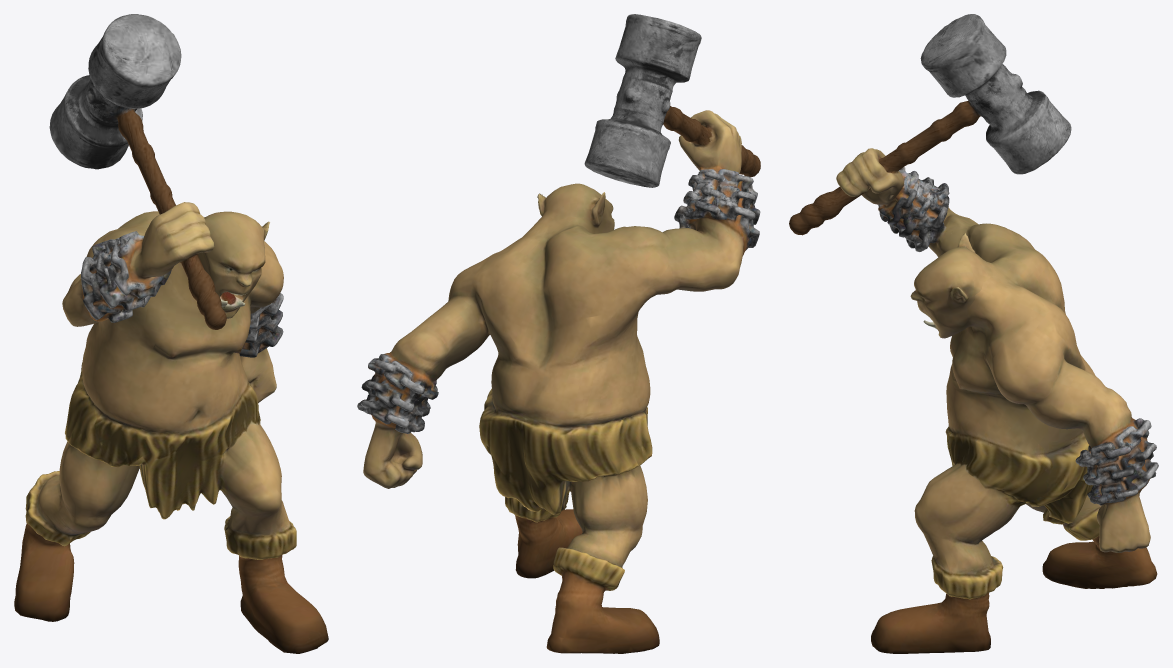
The model's file is MZ4250 - Kostchtchie.glb.
3 renders of one model, left to right at view 1: azimuth 30°, elevation 25°; view 2: azimuth 150°, elevation 25°; view 3: azimuth 270°, elevation 25°, orthographic. The views are drawn at different scales.
Parts seen in each view (by area): view 1: Kostchtchie_low.001; view 2: Kostchtchie_low.001; view 3: Kostchtchie_low.001.
Part boxes in pixels (box(x1,y1,x2,y2)): Kostchtchie_low.001: box(14, 14, 328, 653); Kostchtchie_low.001: box(357, 14, 760, 653); Kostchtchie_low.001: box(789, 14, 1158, 653).
Bounding box in the file's own units: 6.17 × 11.95 × 7.02.
1 material, 1 textured.
